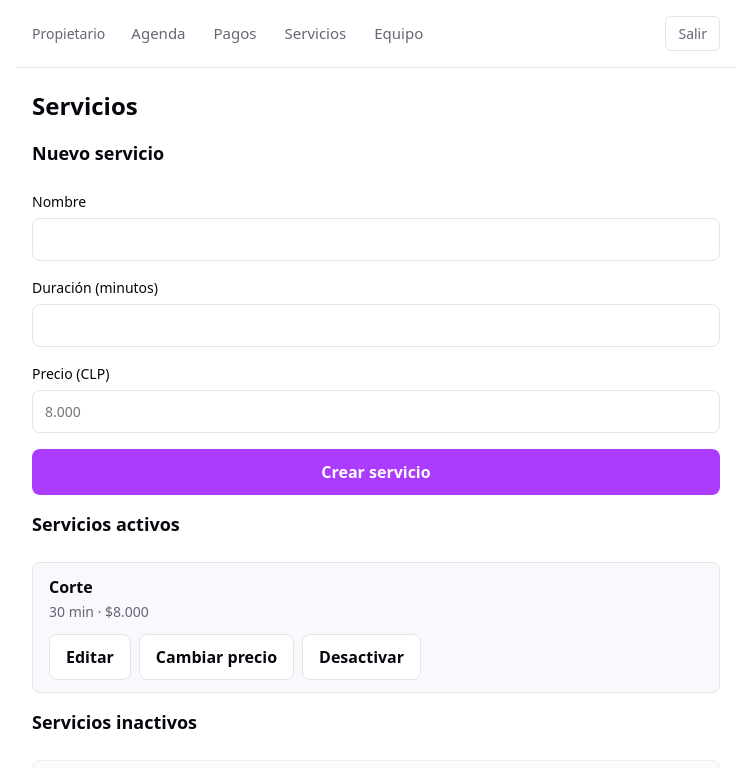
Scenario: RF-5: crear agrega el servicio a la lista sin recargar y vacía el formulario
Expected: the text "Corte" is shown, [49, 576, 93, 598]
Type "Tinte" into the field labelled "Nombre" at (376, 240), box [32, 218, 720, 261]
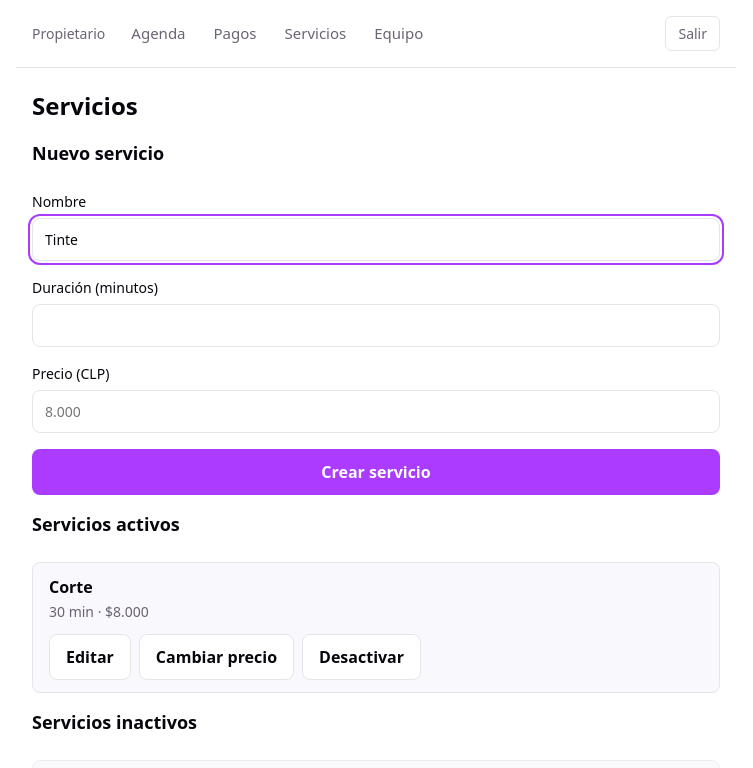
Type "90" into the field labelled "Duración (minutos)" at (376, 326), box [32, 304, 720, 347]
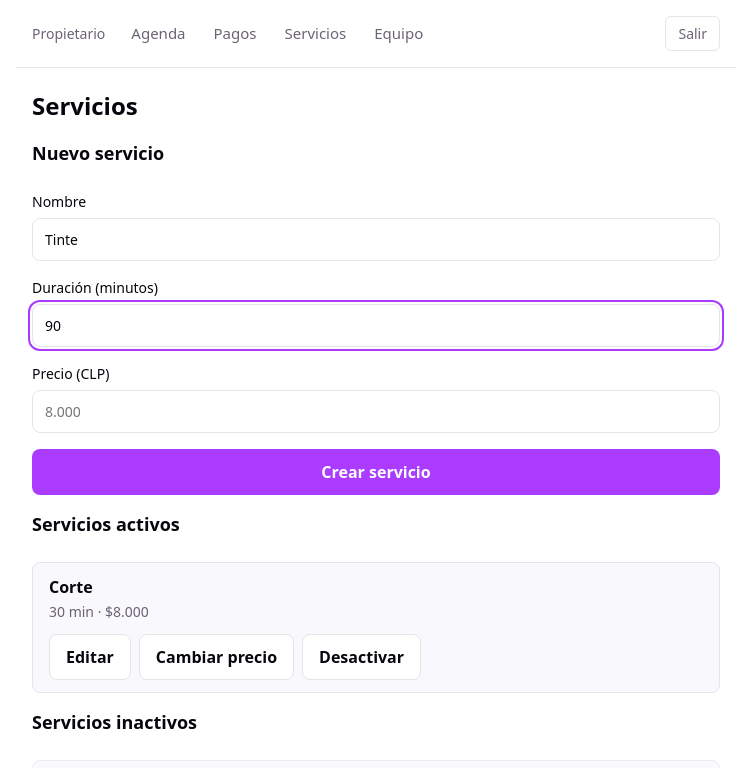
Type "25.000" into the field labelled "Precio (CLP)" at (376, 412), box [32, 390, 720, 433]
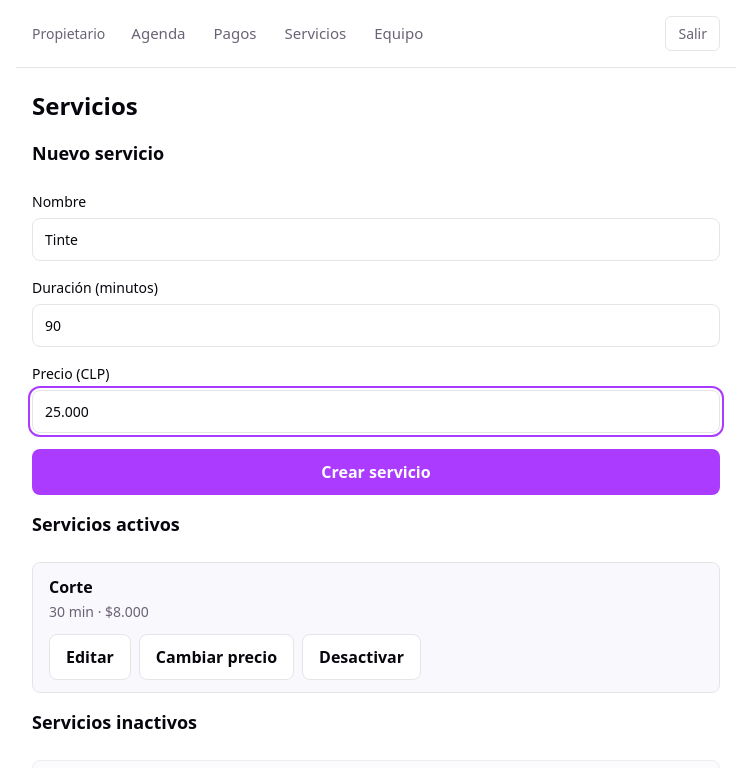
Click the button "Crear servicio" at (376, 472), box [32, 449, 720, 495]
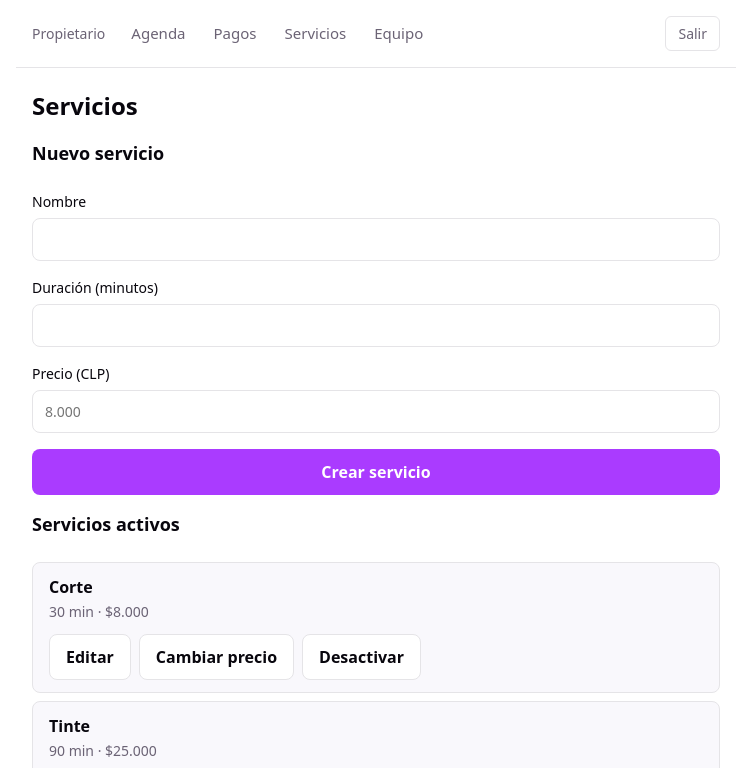
Now the text "90 min · $25.000" is shown, box [49, 741, 157, 760]
Now the field labelled "Nombre" is empty, box [32, 218, 720, 261]
